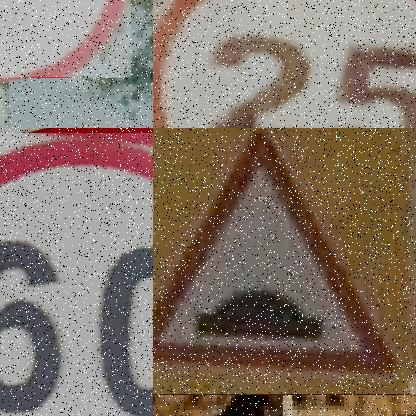Speed Breaker Ahead: (153, 128, 415, 393)
Speed Limit (25 kmph): (153, 0, 416, 128)
Speed Limit (60 kmph): (0, 134, 153, 416)
